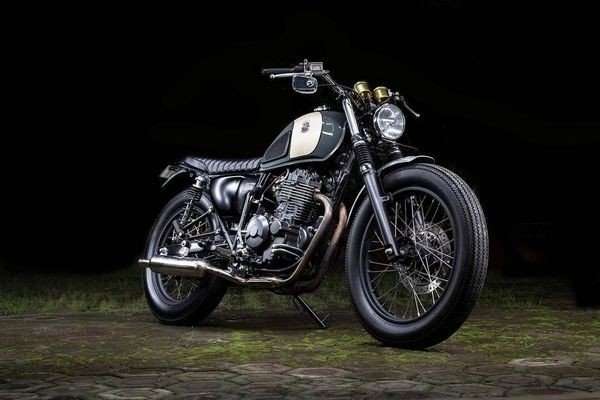motor: (139, 60, 493, 349)
